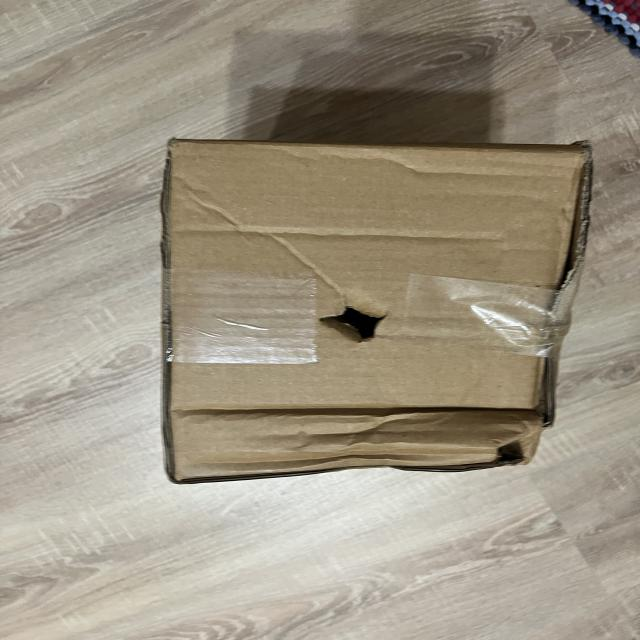damaged: (155, 127, 605, 492), (220, 394, 566, 484), (315, 289, 406, 360)
